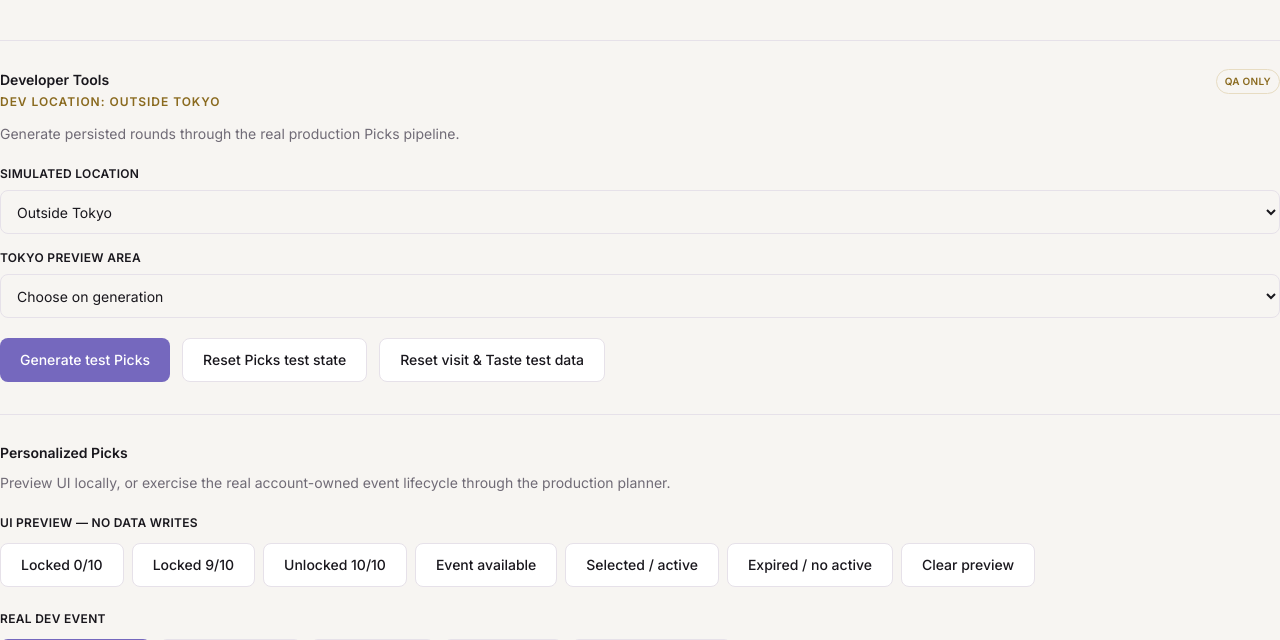
it: DeveloperTools › requires a fresh preview after simulating entry into Tokyo and leaving again
Select "Ginza" in the dropdown labelled "TOKYO PREVIEW AREA" at (640, 296), box [0,274,1279,318]
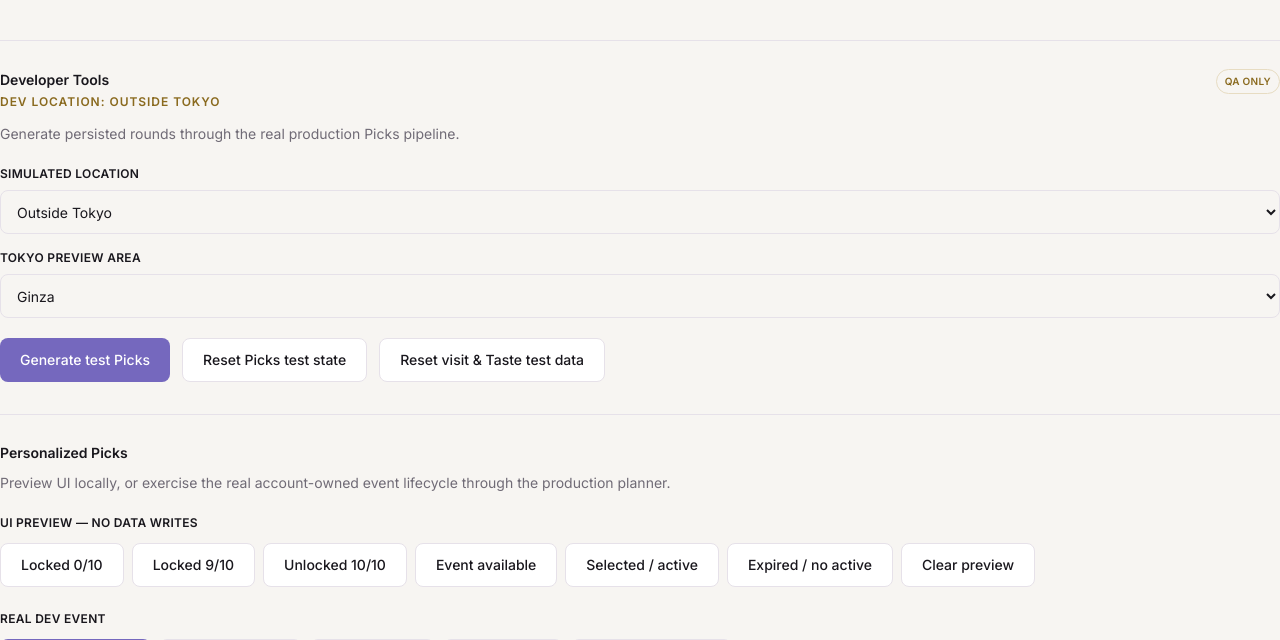
Select "Real device location" in the dropdown labelled "SIMULATED LOCATION" at (640, 212), box [0,190,1279,234]
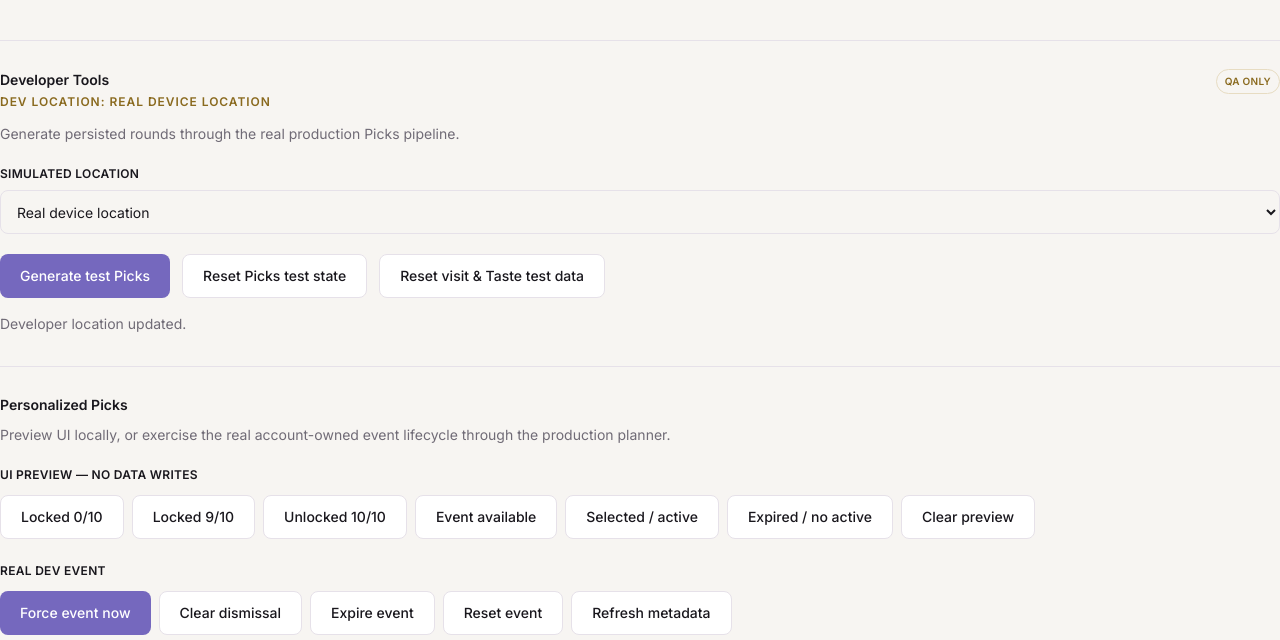
Select "Outside Tokyo" in the dropdown labelled "SIMULATED LOCATION" at (640, 212), box [0,190,1279,234]
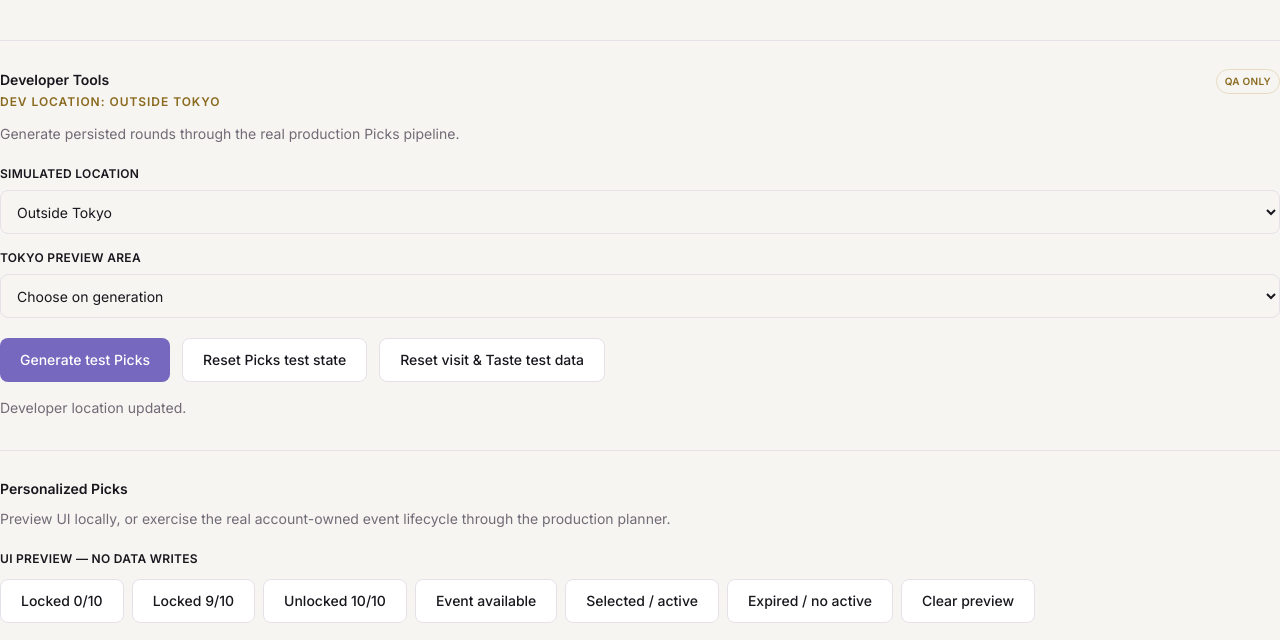
Now the dropdown labelled "TOKYO PREVIEW AREA" shows "Choose on generation", box [0,274,1279,318]
